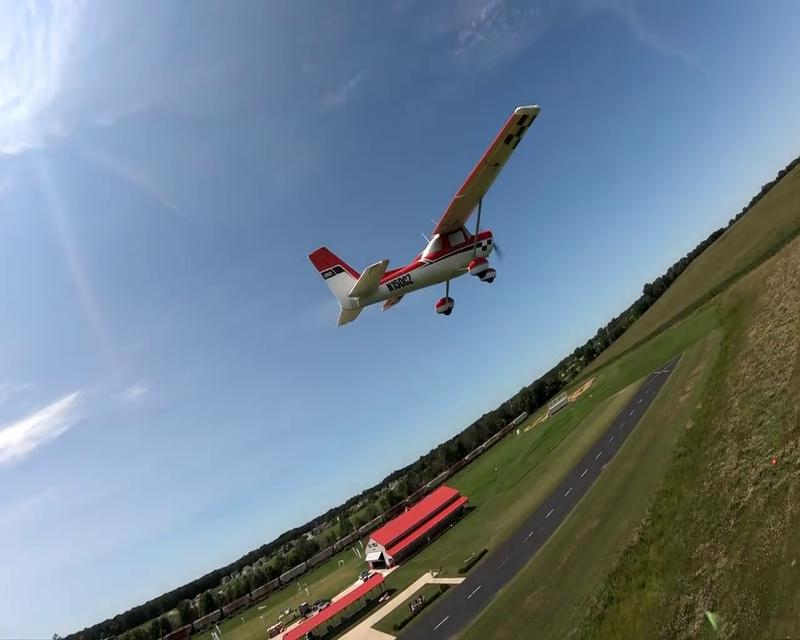UAV: (307, 105, 542, 328)
